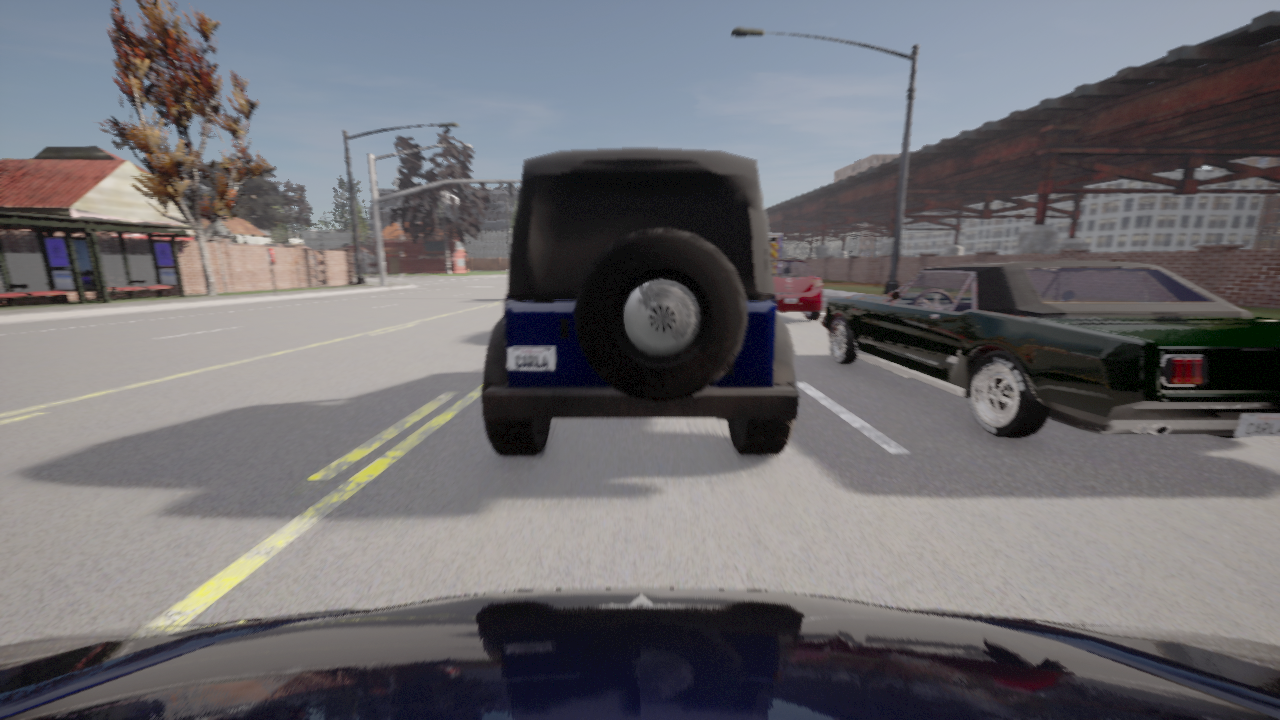cyclist: (0, 588, 1279, 719), (482, 148, 798, 454), (821, 261, 1279, 438), (772, 259, 822, 320), (769, 233, 781, 258)
